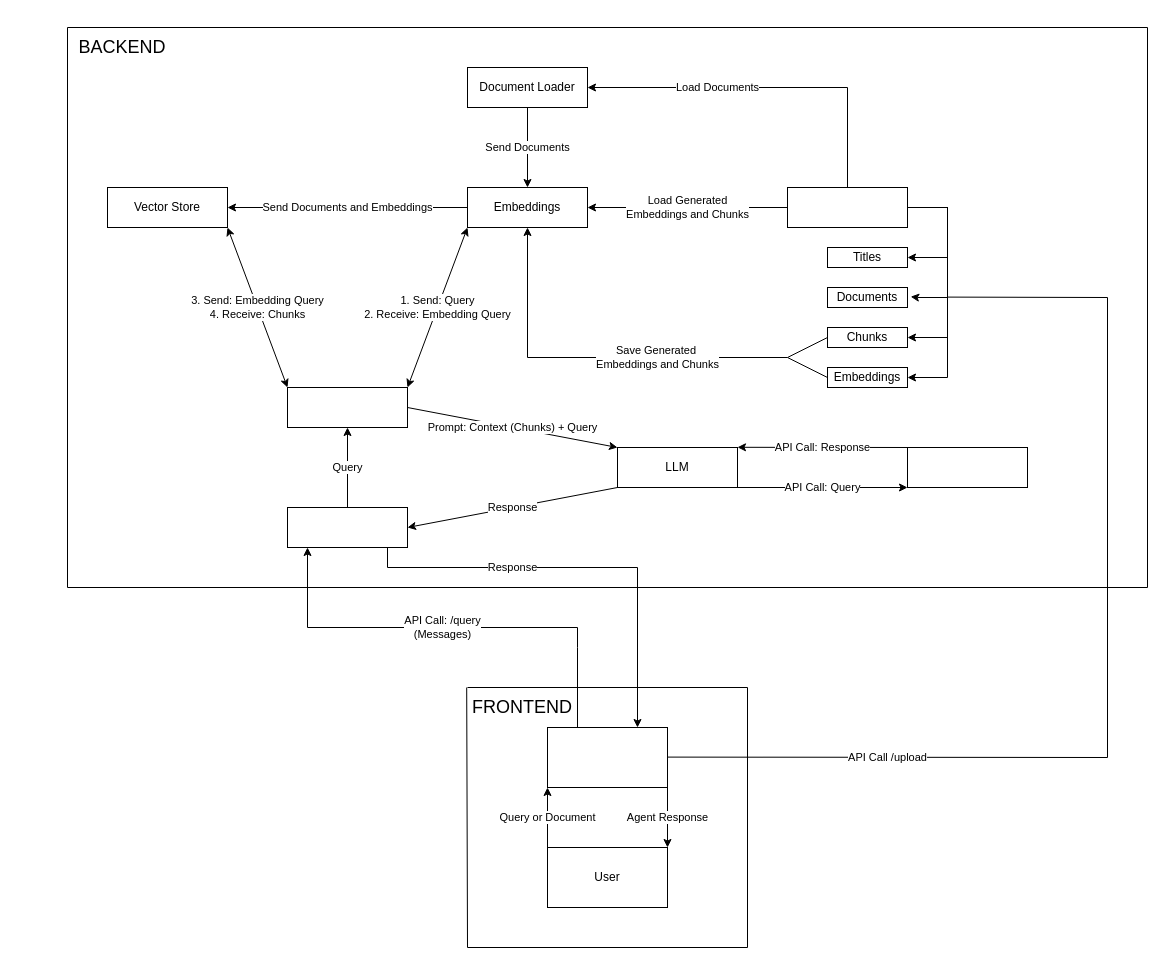
This 1166x966 diagram has some shape labels left out. Here are the shapes that lost their labels. From the top down, the centre of each, then its label:
At (x=847, y=207): "PostgreSQL".
At (x=347, y=407): "Retriever".
At (x=967, y=467): "Llamafile".
At (x=347, y=527): "RAG Agent".
At (x=607, y=757): "Streamlit Interface".
